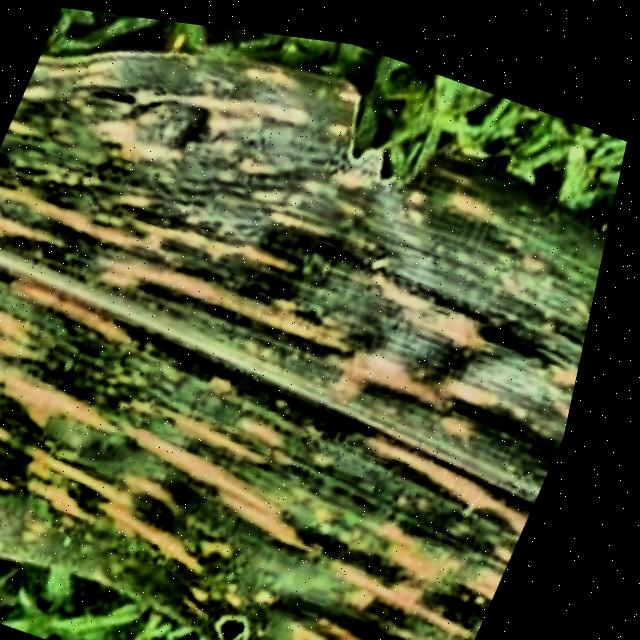gray_spot: (0, 6, 639, 640)
